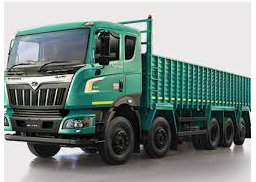truck: (3, 13, 252, 167)
